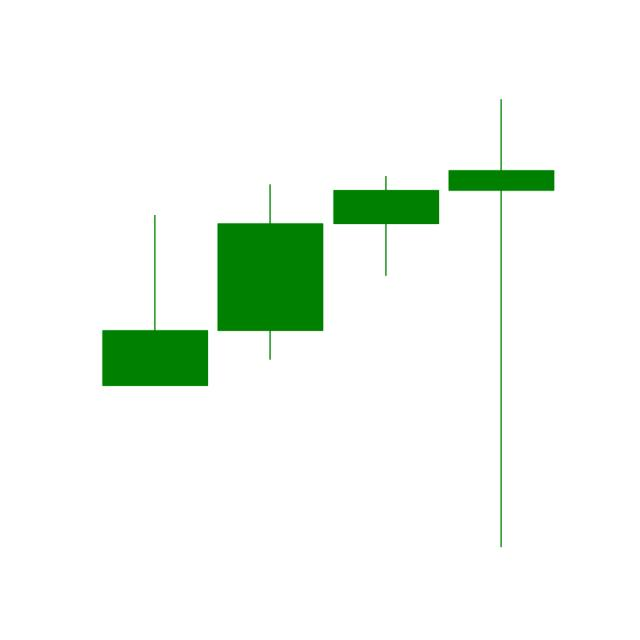Hammer: (448, 96, 556, 552), (332, 170, 441, 279)
spinning top: (213, 178, 327, 370)
